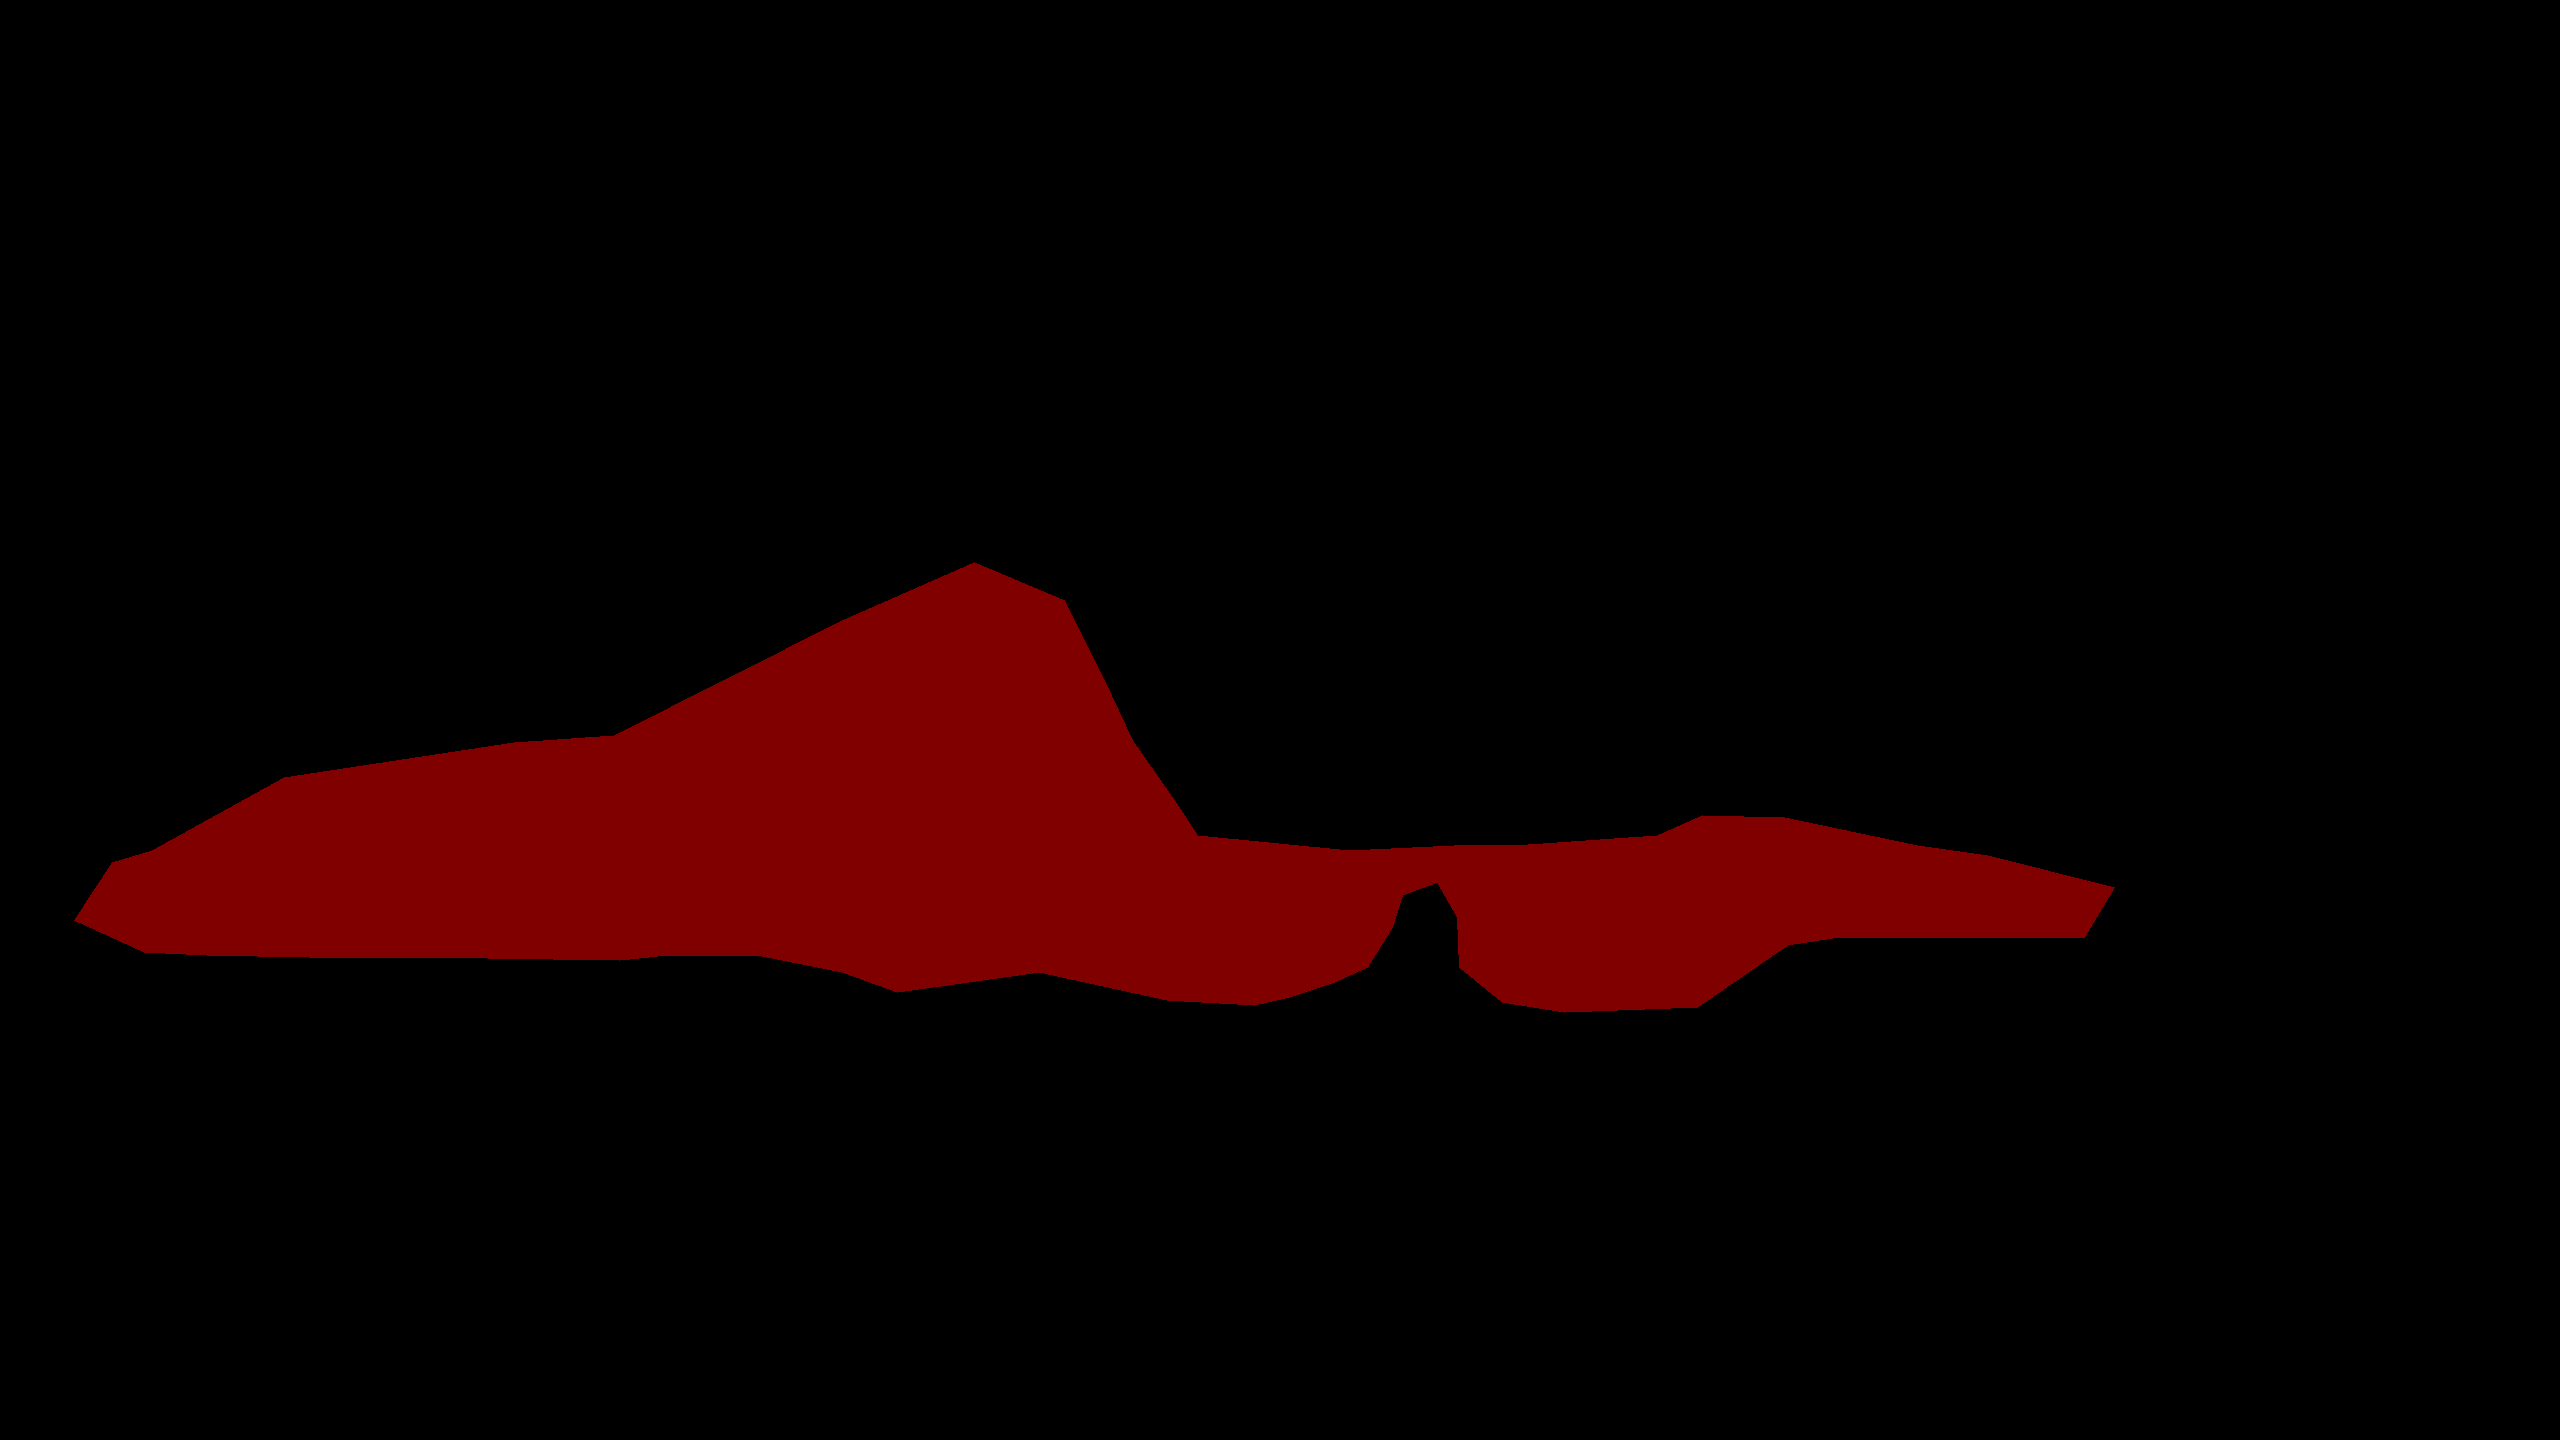fire: (74, 563, 2113, 1013)
